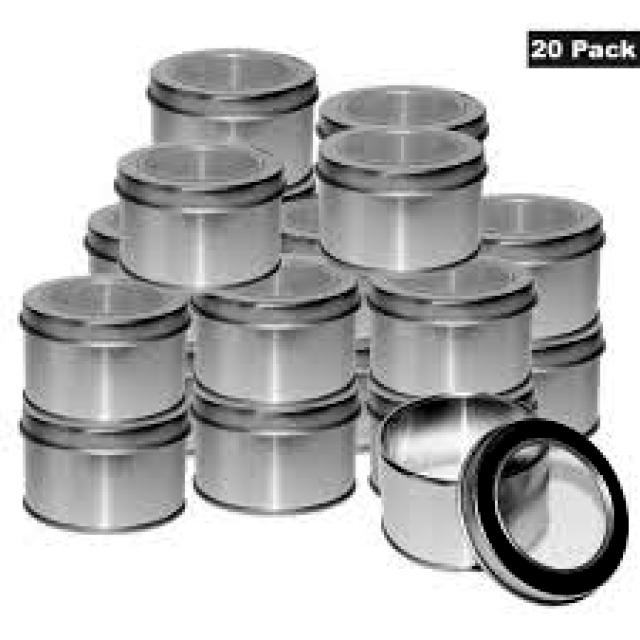Metal: (190, 255, 366, 520), (18, 269, 194, 531), (374, 394, 555, 570), (143, 46, 323, 193), (111, 142, 291, 289), (314, 127, 488, 268), (362, 266, 538, 397), (486, 188, 605, 346), (316, 81, 485, 127)
